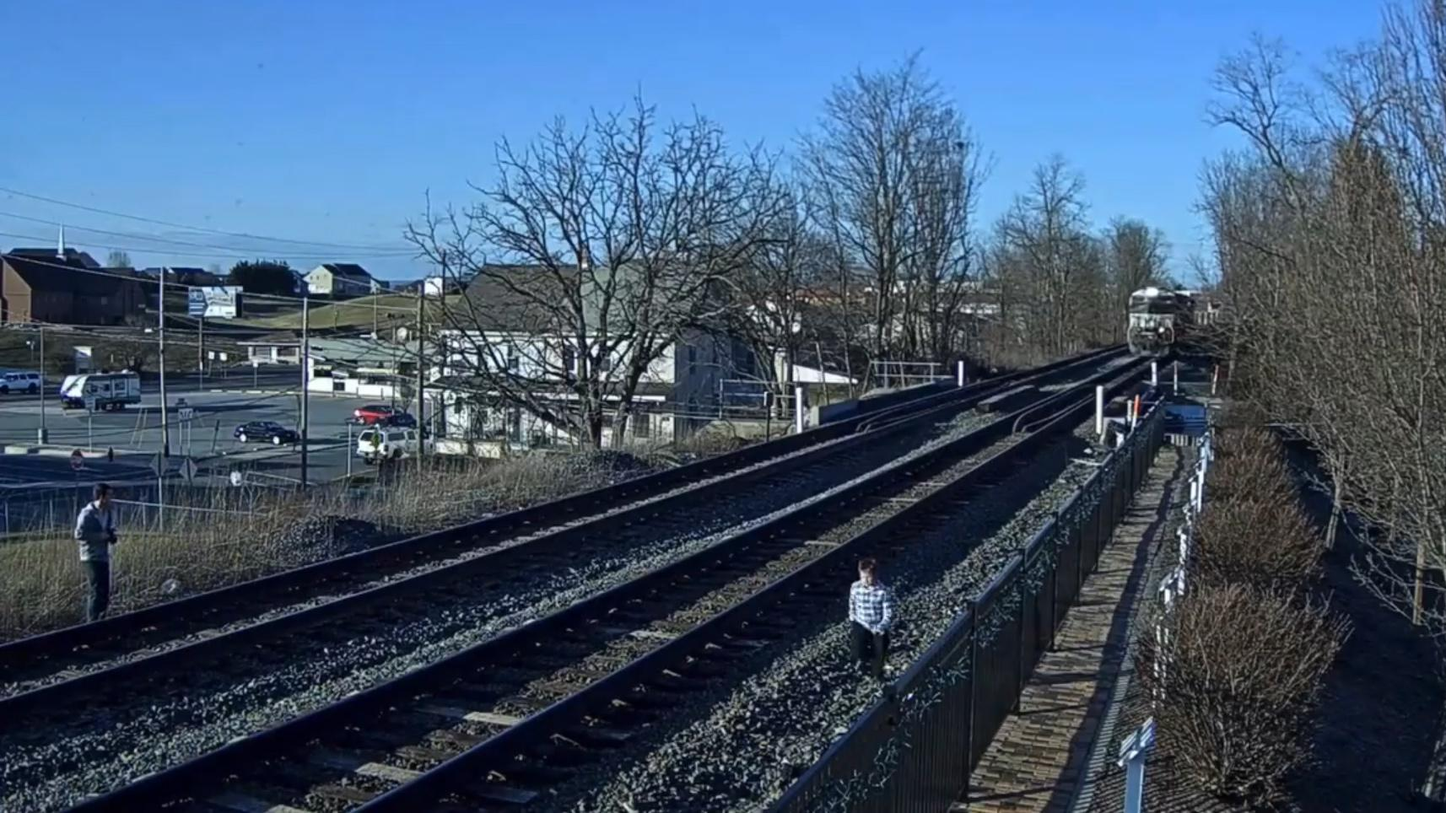person: (843, 553, 905, 699), (72, 479, 121, 621)
